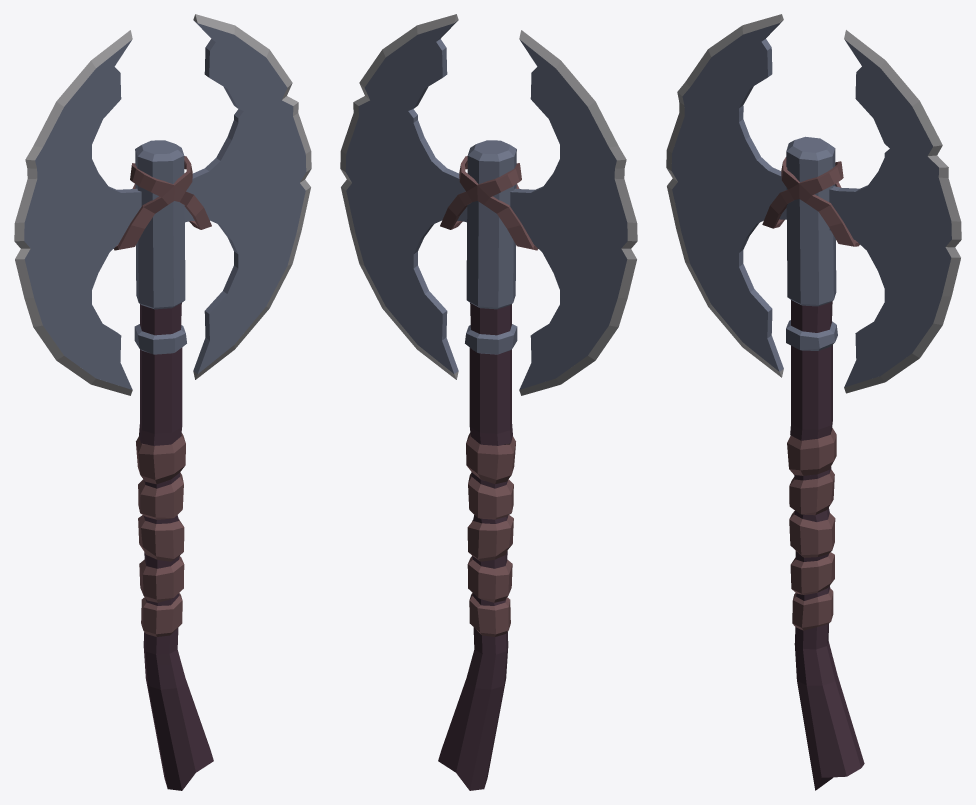
Rendered from Axe_Double.glb.
3 views of the same model, side by side, from view 1: azimuth 30°, elevation 25°; view 2: azimuth 150°, elevation 25°; view 3: azimuth 330°, elevation 25° (orthographic).
Visible parts, largest first — view 1: Axe_Double; view 2: Axe_Double; view 3: Axe_Double.
Part boxes in pixels (x1,y1,x2,y2): Axe_Double: (14,14,311,790); Axe_Double: (340,14,637,790); Axe_Double: (666,14,961,790).
Bounding box in the file's own units: 0.6247 × 1.54 × 0.0972.
